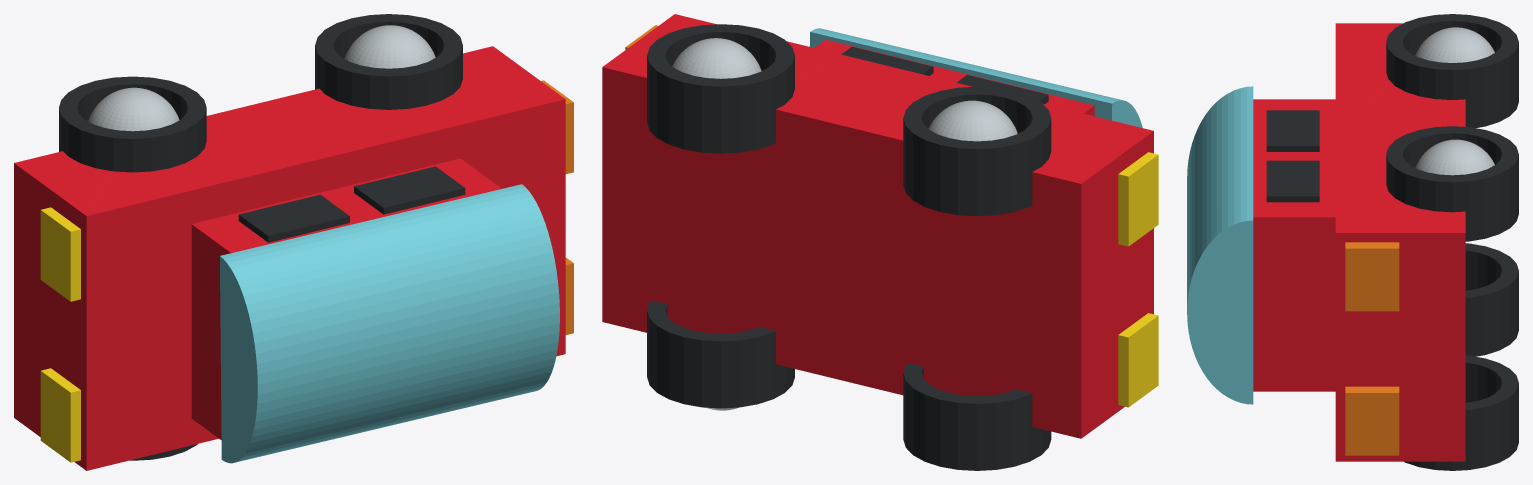
File: tinker.obj
The picture shows the model from 3 angles, left to right: view 1: azimuth 30°, elevation 25°; view 2: azimuth 150°, elevation 25°; view 3: azimuth 270°, elevation 25°; orthographic projection. The views are drawn at different scales.
Visible parts, largest first — view 1: group_0_15277357, group_0_7720667, group_0_2829873, group_0_16768282, group_0_12568524, group_0_16089887; view 2: group_0_15277357, group_0_2829873, group_0_16768282, group_0_12568524, group_0_7720667; view 3: group_0_15277357, group_0_2829873, group_0_7720667, group_0_16089887, group_0_12568524.
Boxes of the visible parts, left/top/right/bottom form: group_0_15277357: left=14, top=46, right=565, bottom=470; group_0_7720667: left=220, top=184, right=559, bottom=463; group_0_2829873: left=59, top=14, right=465, bottom=460; group_0_16768282: left=40, top=207, right=80, bottom=462; group_0_12568524: left=88, top=25, right=435, bottom=131; group_0_16089887: left=541, top=80, right=573, bottom=334; group_0_15277357: left=602, top=14, right=1153, bottom=438; group_0_2829873: left=647, top=24, right=1051, bottom=470; group_0_16768282: left=1118, top=152, right=1158, bottom=407; group_0_12568524: left=672, top=38, right=1017, bottom=410; group_0_7720667: left=809, top=28, right=1142, bottom=127; group_0_15277357: left=1253, top=23, right=1465, bottom=461; group_0_2829873: left=1266, top=14, right=1518, bottom=470; group_0_7720667: left=1187, top=86, right=1253, bottom=404; group_0_16089887: left=1345, top=242, right=1399, bottom=455; group_0_12568524: left=1415, top=27, right=1494, bottom=175.
Bounding box in the file's own units: 78.55 × 54 × 50.
